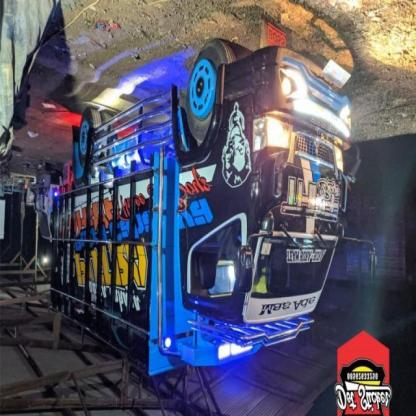truck: (52, 40, 377, 377)
